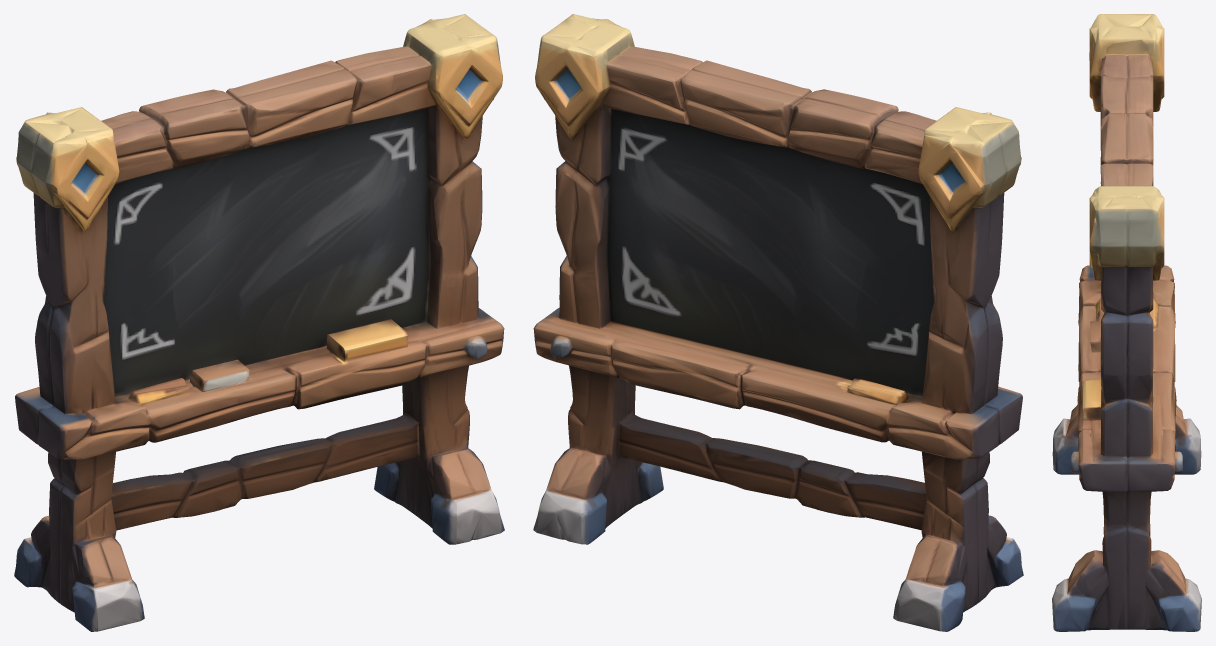
File: schoolboard.glb
3 views of the same model, side by side, from view 1: azimuth 30°, elevation 25°; view 2: azimuth 150°, elevation 25°; view 3: azimuth 270°, elevation 25° (orthographic). The views are drawn at different scales.
Parts seen in each view (by area): view 1: node_0; view 2: node_0; view 3: node_0.
Part boxes in pixels (x1=…): node_0: x1=14, y1=14, x2=504, y2=631; node_0: x1=533, y1=14, x2=1023, y2=631; node_0: x1=1052, y1=14, x2=1201, y2=631.
Size of the model in its own units: 0.8595 by 0.8606 by 0.2697.
1 material, 1 textured.
